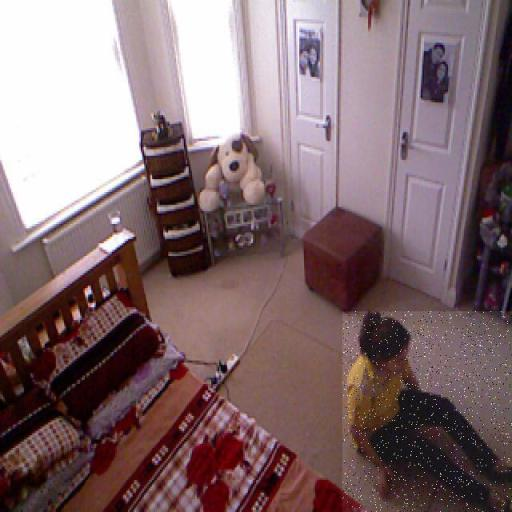Fall: (342, 311, 512, 512)
